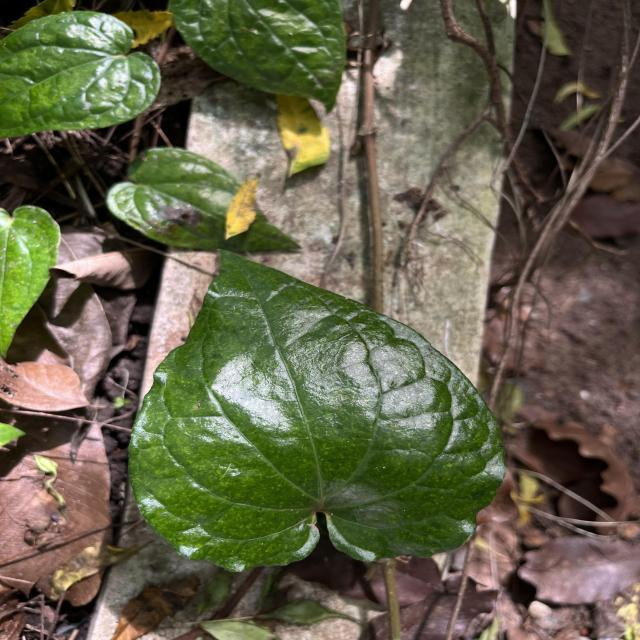Piper betle: (123, 242, 510, 576)
